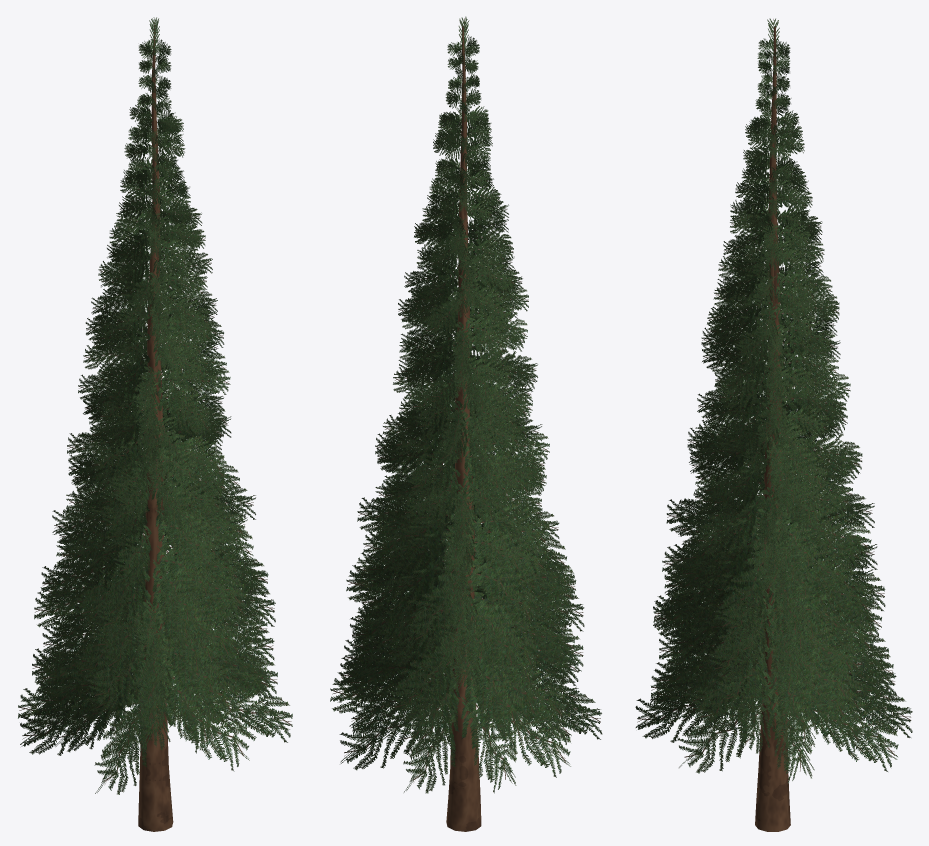
The model's file is veg_douglas_fir_a.fbx.
3 renders of one model, left to right at view 1: azimuth 30°, elevation 25°; view 2: azimuth 150°, elevation 25°; view 3: azimuth 270°, elevation 25°, orthographic.
Visible parts, largest first — view 1: veg_douglas_fir_a_LOD0; view 2: veg_douglas_fir_a_LOD0; view 3: veg_douglas_fir_a_LOD0.
Boxes of the visible parts, x1,y1,x2,y2 form: veg_douglas_fir_a_LOD0: [18, 17, 292, 831]; veg_douglas_fir_a_LOD0: [330, 16, 602, 831]; veg_douglas_fir_a_LOD0: [635, 18, 912, 831].
Size of what is drawn, in the model's own units: 10.35 by 32.74 by 10.36.
2 materials, 2 textured.
